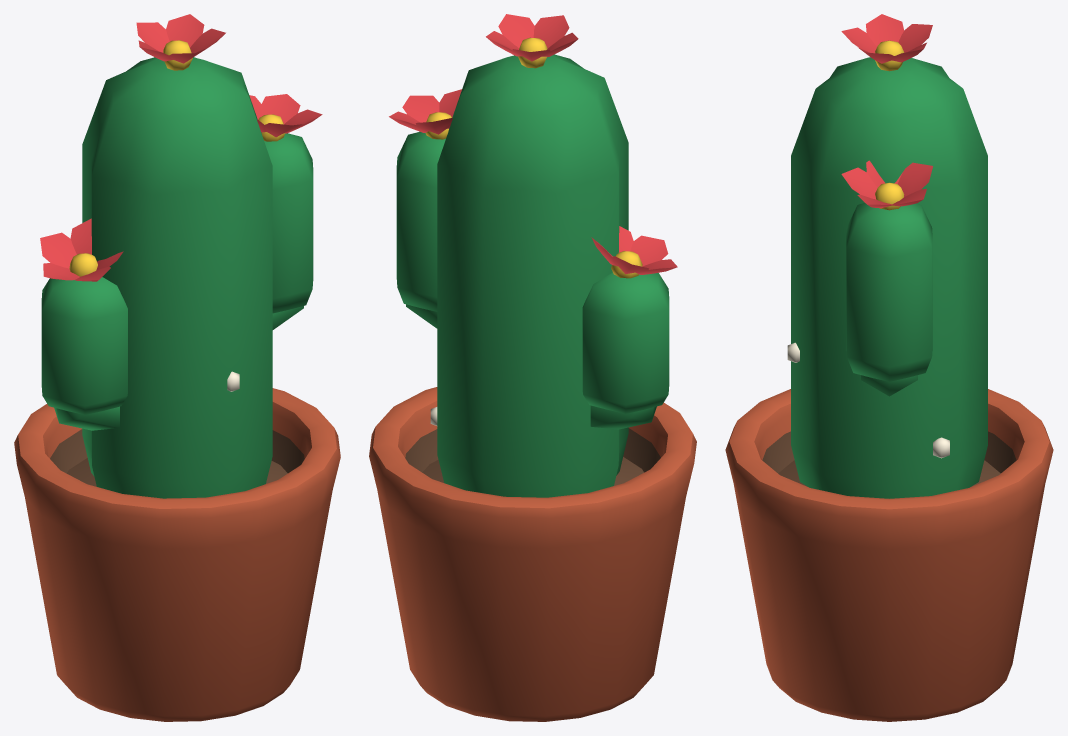
File: planta_mini_cacto_flor.glb
3 views of the same model, side by side, from view 1: azimuth 30°, elevation 25°; view 2: azimuth 150°, elevation 25°; view 3: azimuth 270°, elevation 25° (orthographic).
Parts seen in each view (by area): view 1: planta_mini_cacto_flor; view 2: planta_mini_cacto_flor; view 3: planta_mini_cacto_flor.
Boxes of the visible parts, <box> form: planta_mini_cacto_flor: <box>14,14,340,721</box>; planta_mini_cacto_flor: <box>369,14,696,721</box>; planta_mini_cacto_flor: <box>725,14,1053,721</box>.
Size of the model in its own units: 0.08 by 0.1718 by 0.08.
1 material, 1 textured.
